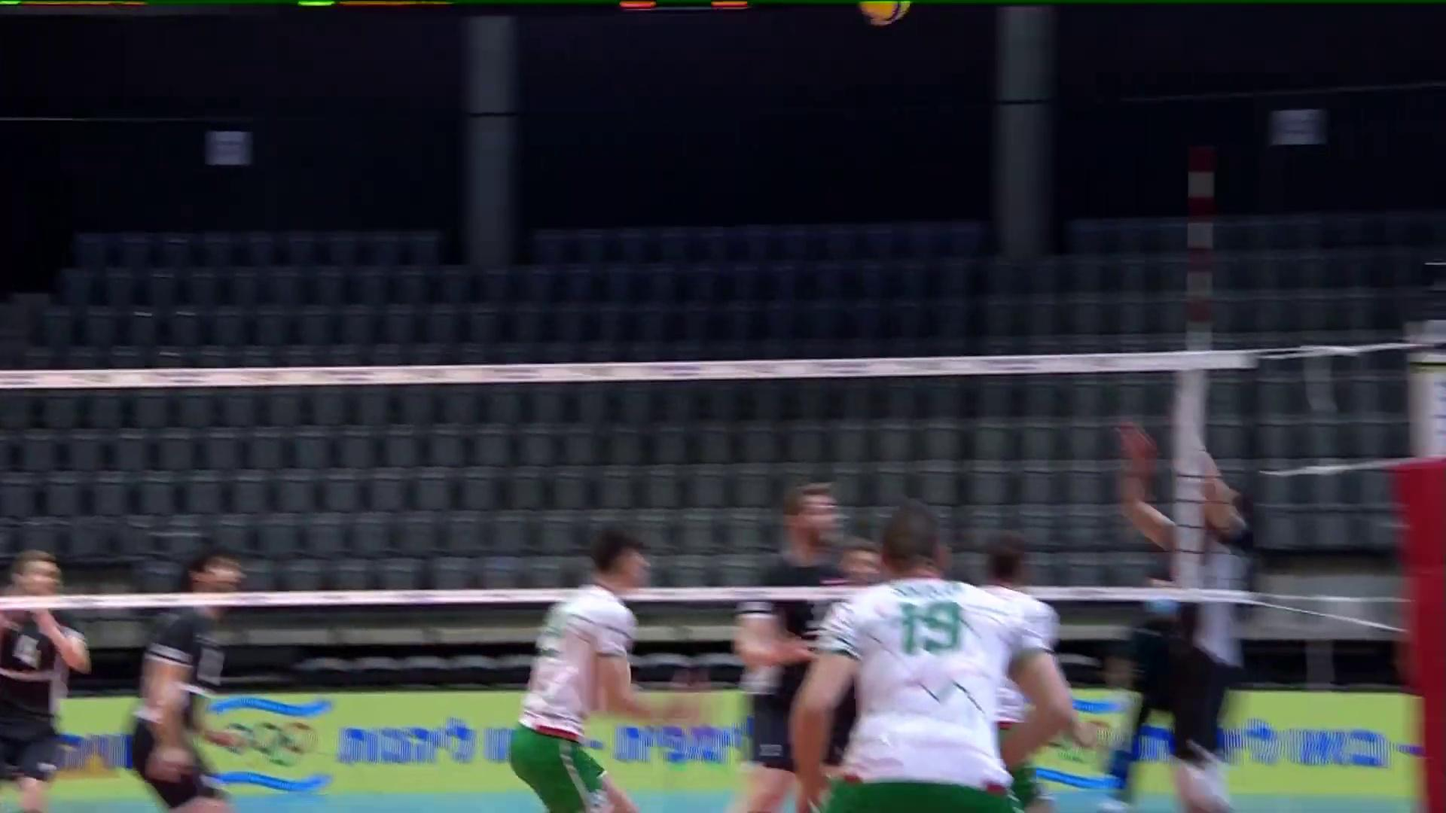ball: (862, 0, 917, 27)
